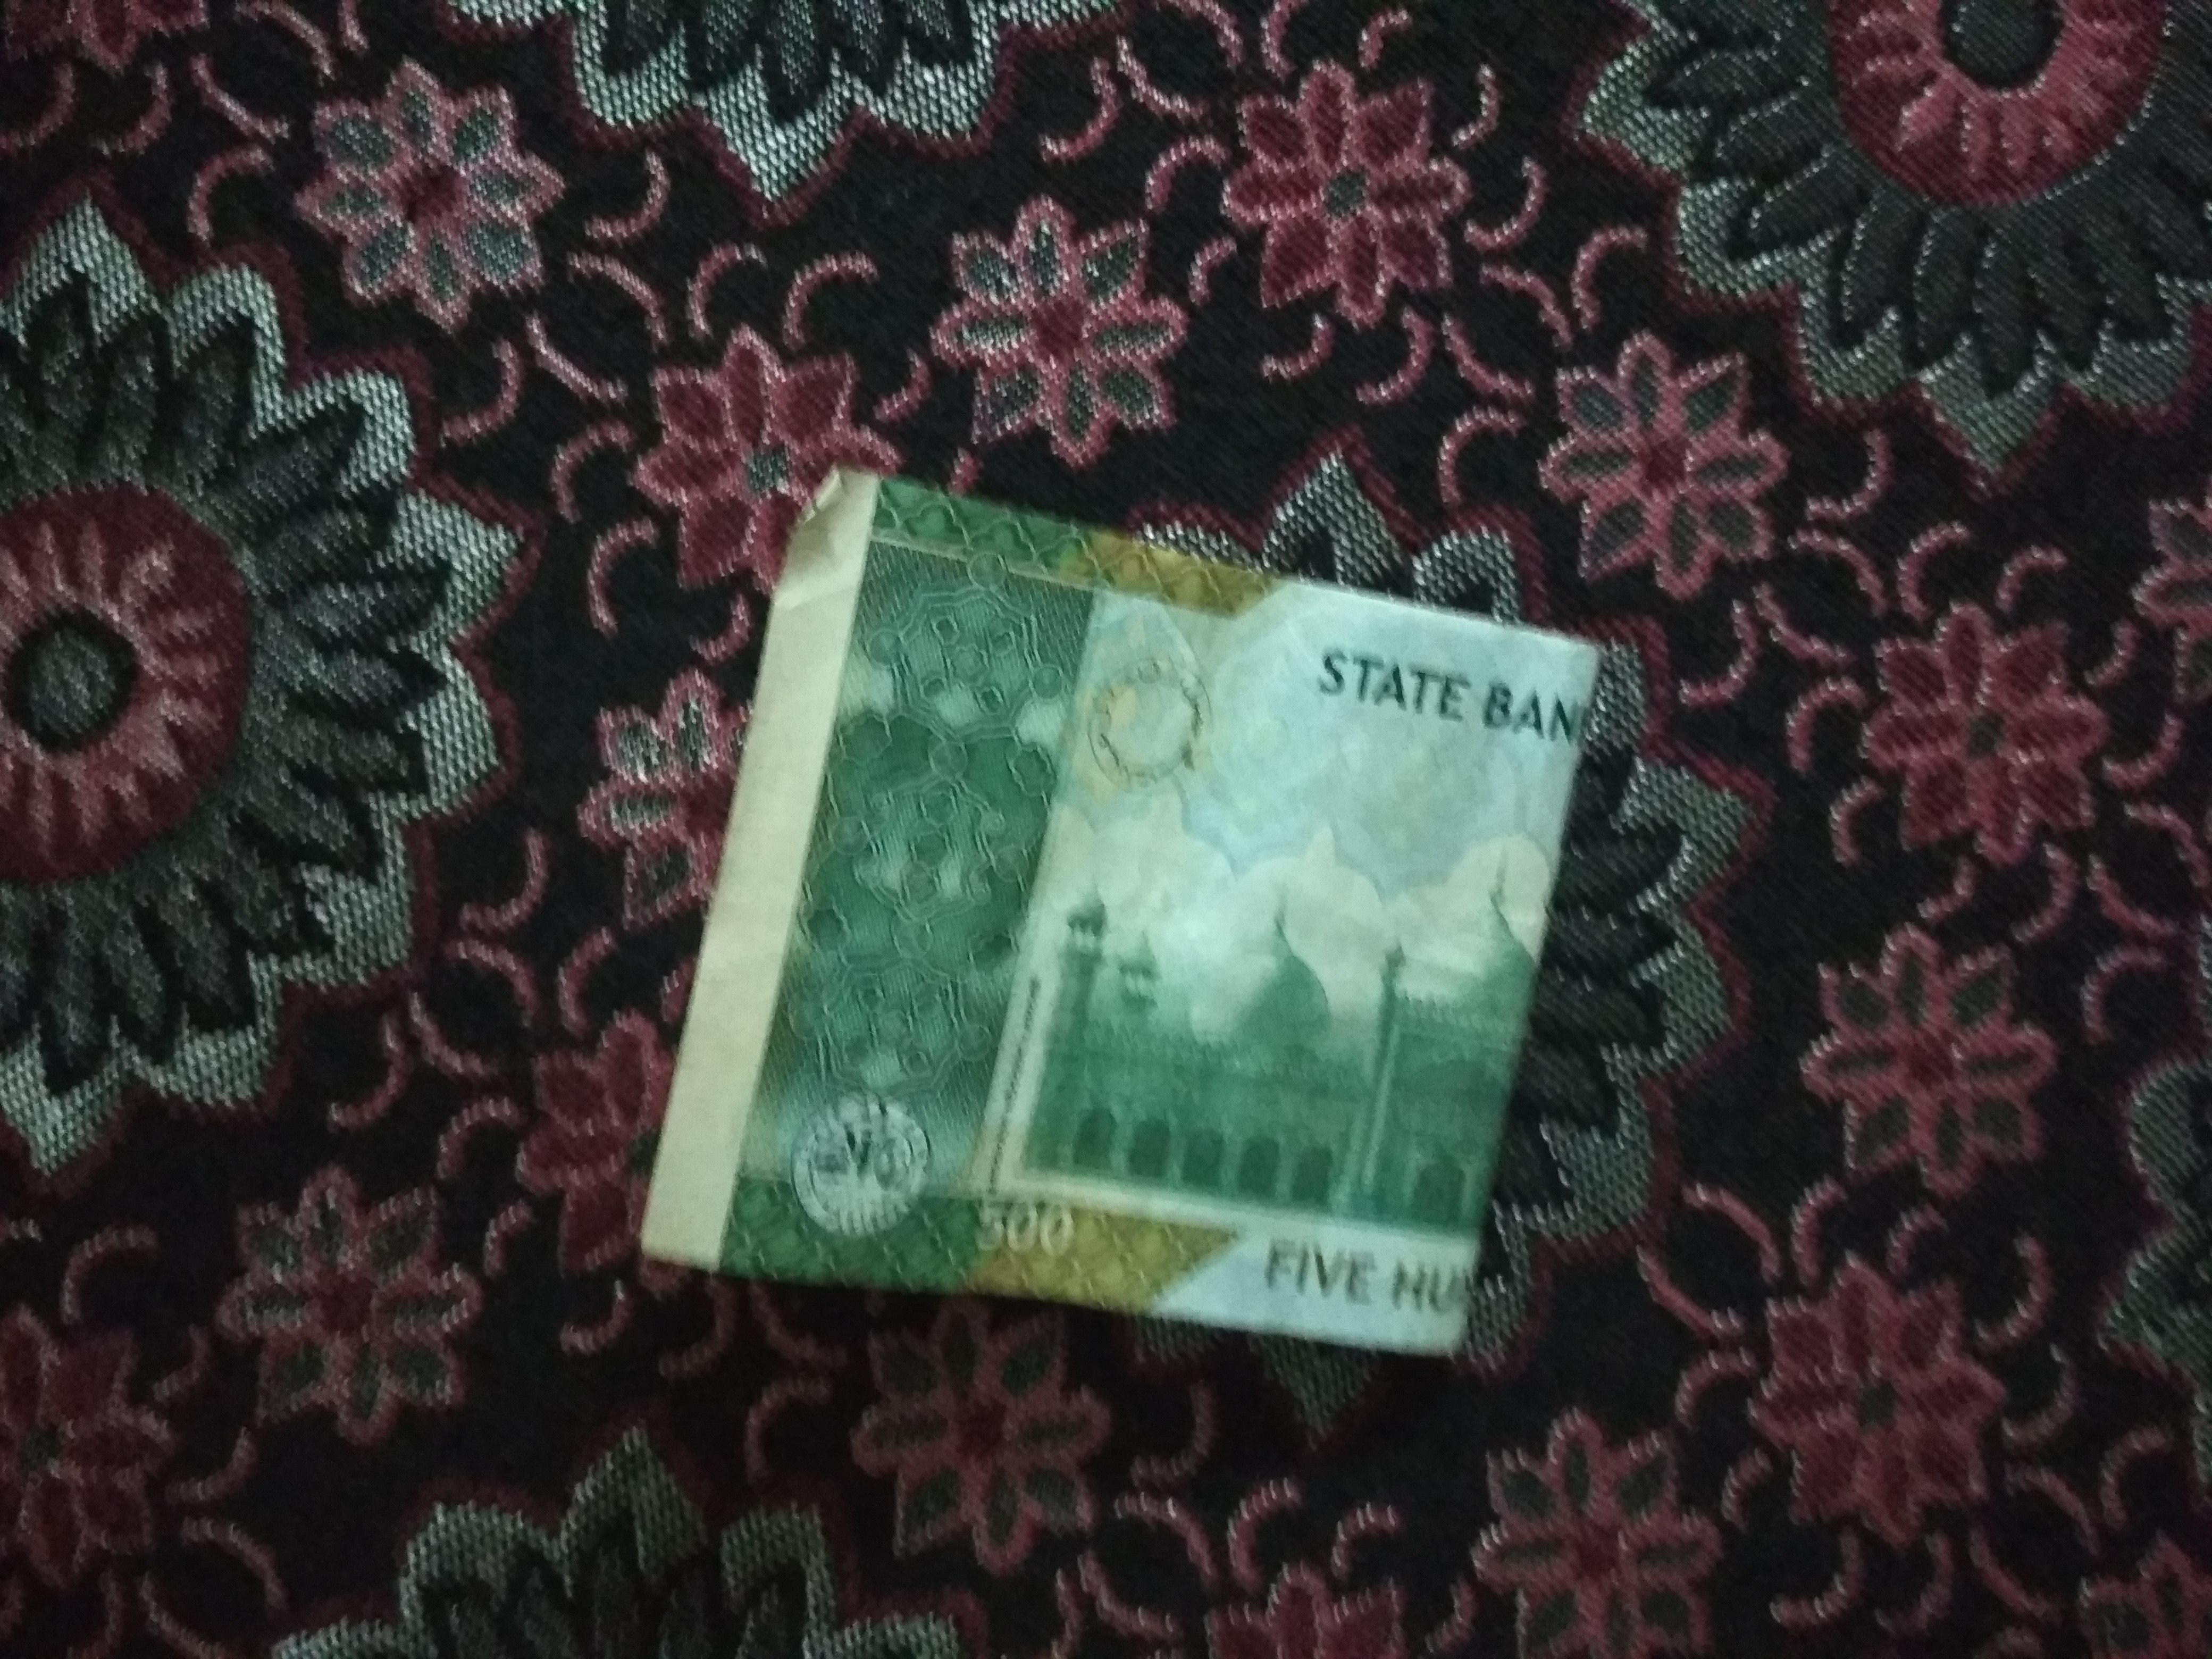500 rupee: (587, 413, 1608, 1408)
